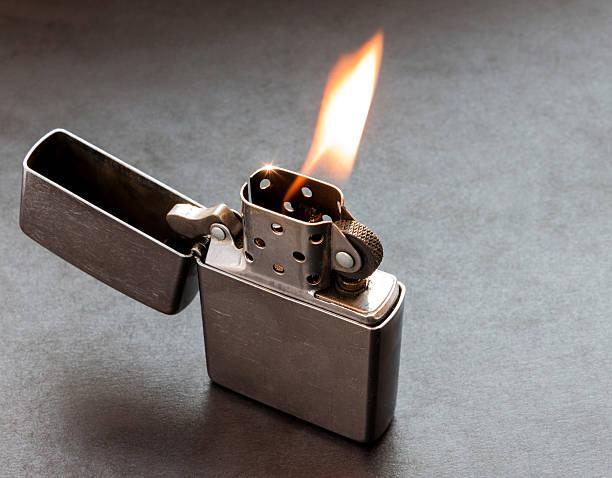Fire: (278, 21, 398, 208)
